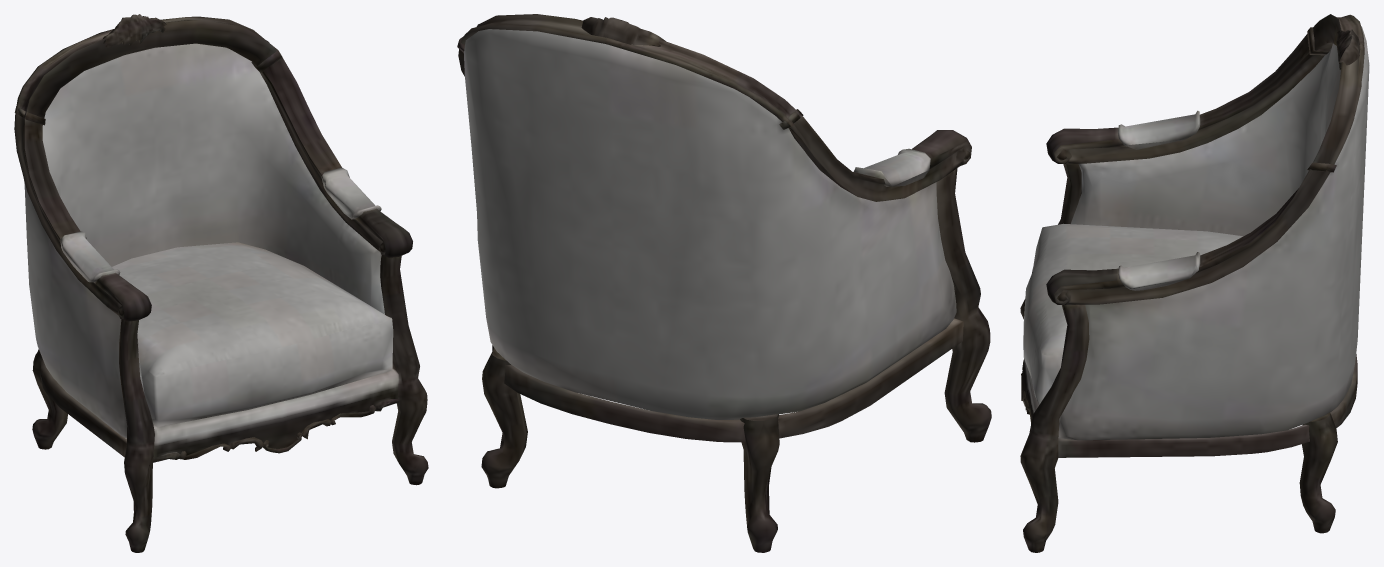
The model's file is armchair_01.glb.
3 views of the same model, side by side, from view 1: azimuth 30°, elevation 25°; view 2: azimuth 150°, elevation 25°; view 3: azimuth 270°, elevation 25° (orthographic). The views are drawn at different scales.
Parts seen in each view (by area): view 1: ArmChair_01; view 2: ArmChair_01; view 3: ArmChair_01.
Boxes of the visible parts, x1=… form: ArmChair_01: x1=14, y1=14, x2=428, y2=552; ArmChair_01: x1=457, y1=14, x2=991, y2=552; ArmChair_01: x1=1020, y1=14, x2=1369, y2=552.
Size of the model in its own units: 0.8482 by 1.06 by 0.7658.
Materials: 1 (1 with a texture image).
